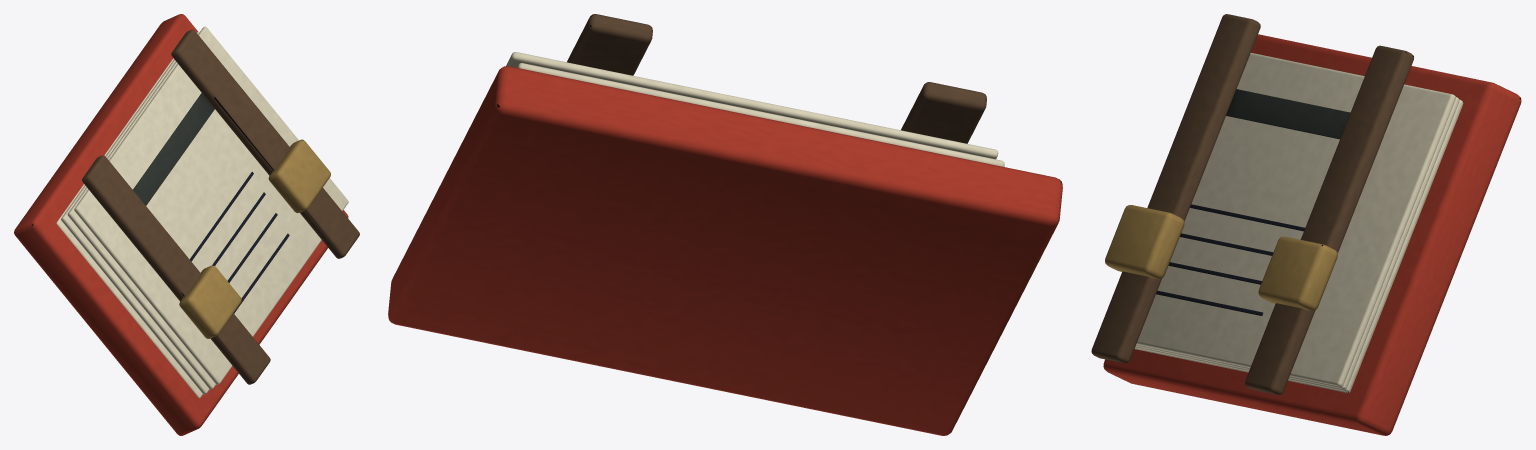
3 views of the same model, side by side, from view 1: azimuth 30°, elevation 25°; view 2: azimuth 150°, elevation 25°; view 3: azimuth 270°, elevation 25° (orthographic). The views are drawn at different scales.
Visible parts, largest first — view 1: Rigid report cover; view 2: Rigid report cover; view 3: Rigid report cover.
Boxes of the visible parts, x1,y1,x2,y2 form: Rigid report cover: (14, 14, 359, 435); Rigid report cover: (388, 14, 1062, 435); Rigid report cover: (1091, 14, 1521, 435).
Bounding box in the file's own units: 1.37 × 1.08 × 1.04.
Materials: 1 (1 with a texture image).
